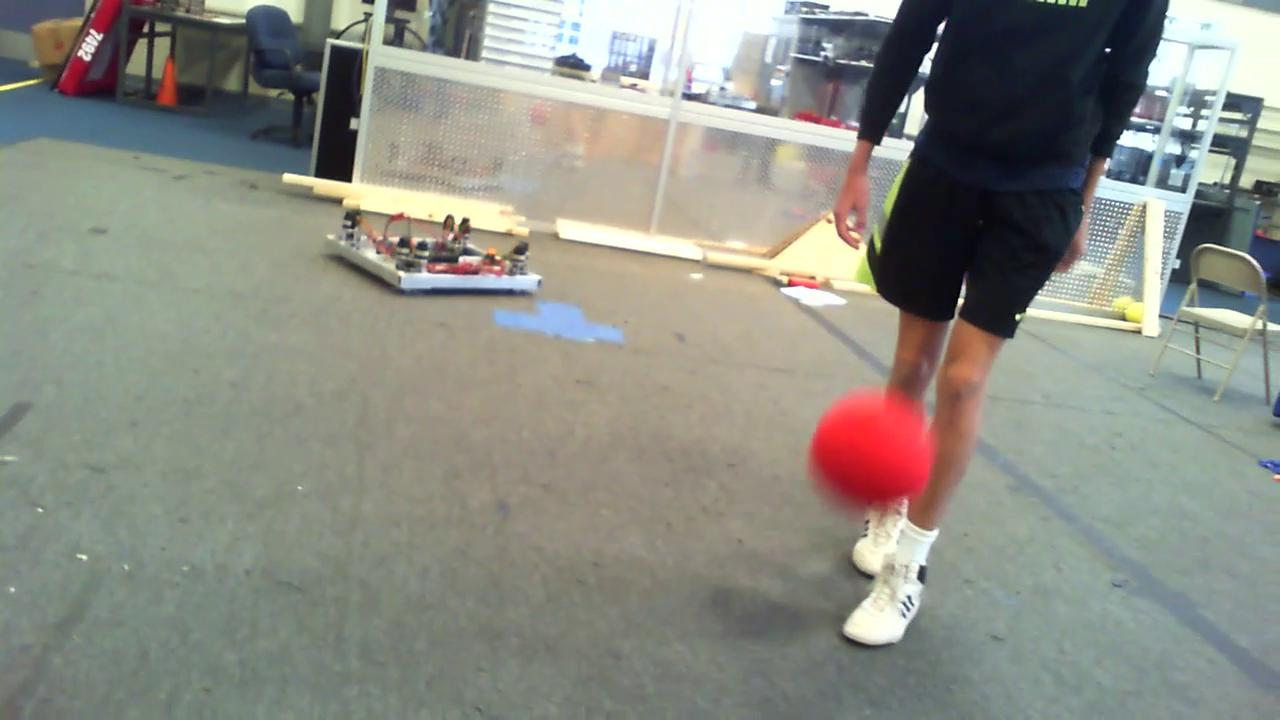Red_Ball: (805, 385, 938, 514)
